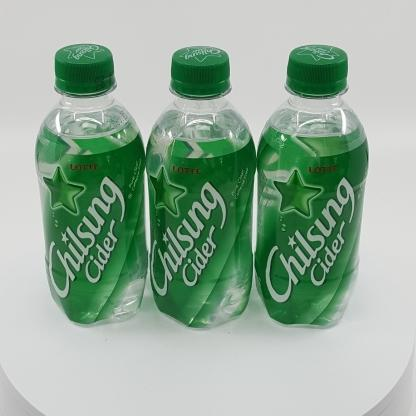-----------390ML: (254, 44, 370, 329), (34, 43, 149, 328), (145, 45, 256, 331)
